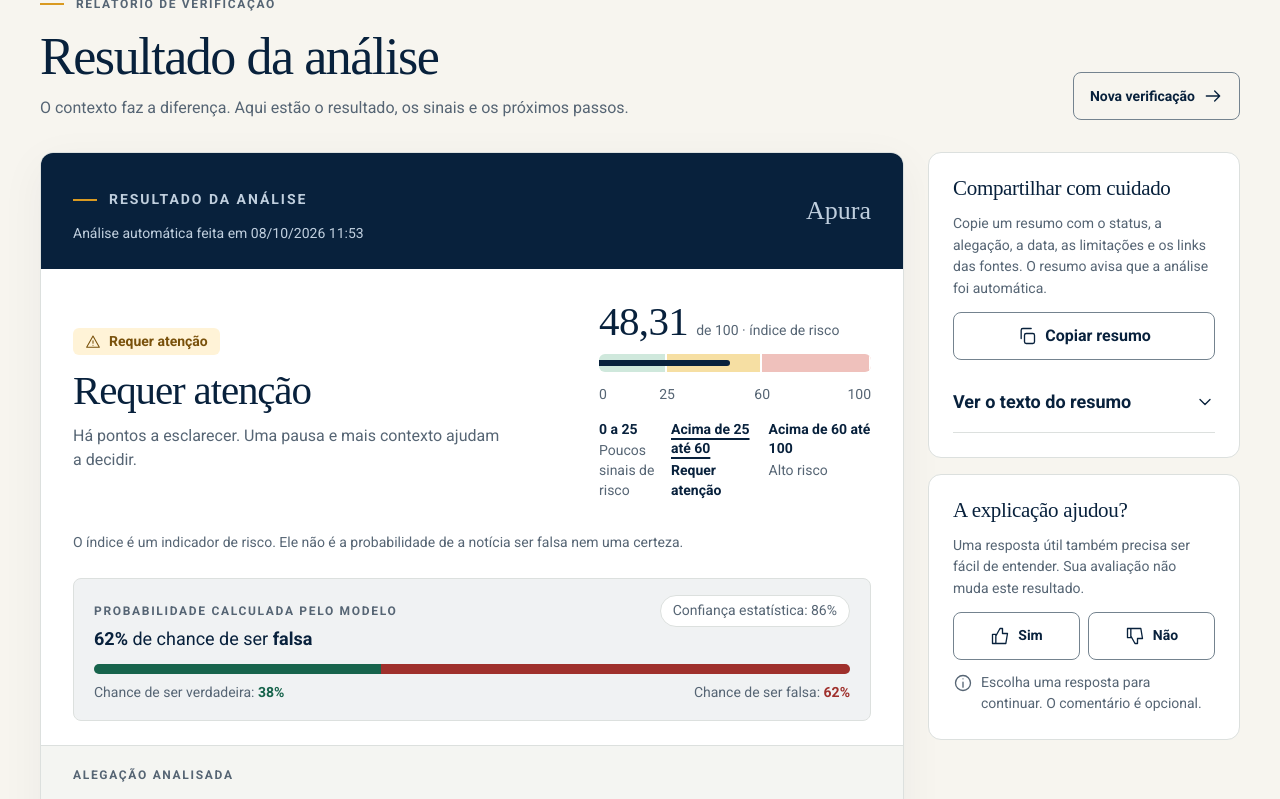
it: RF18: resumo copiável › o resumo traz status, alegação, data, limitações, aviso de análise automática e sem verificação humana
Click the heading "Ver o texto do resumo" at (1084,402), box 953,391 -> 1215,412
(page scrolled)
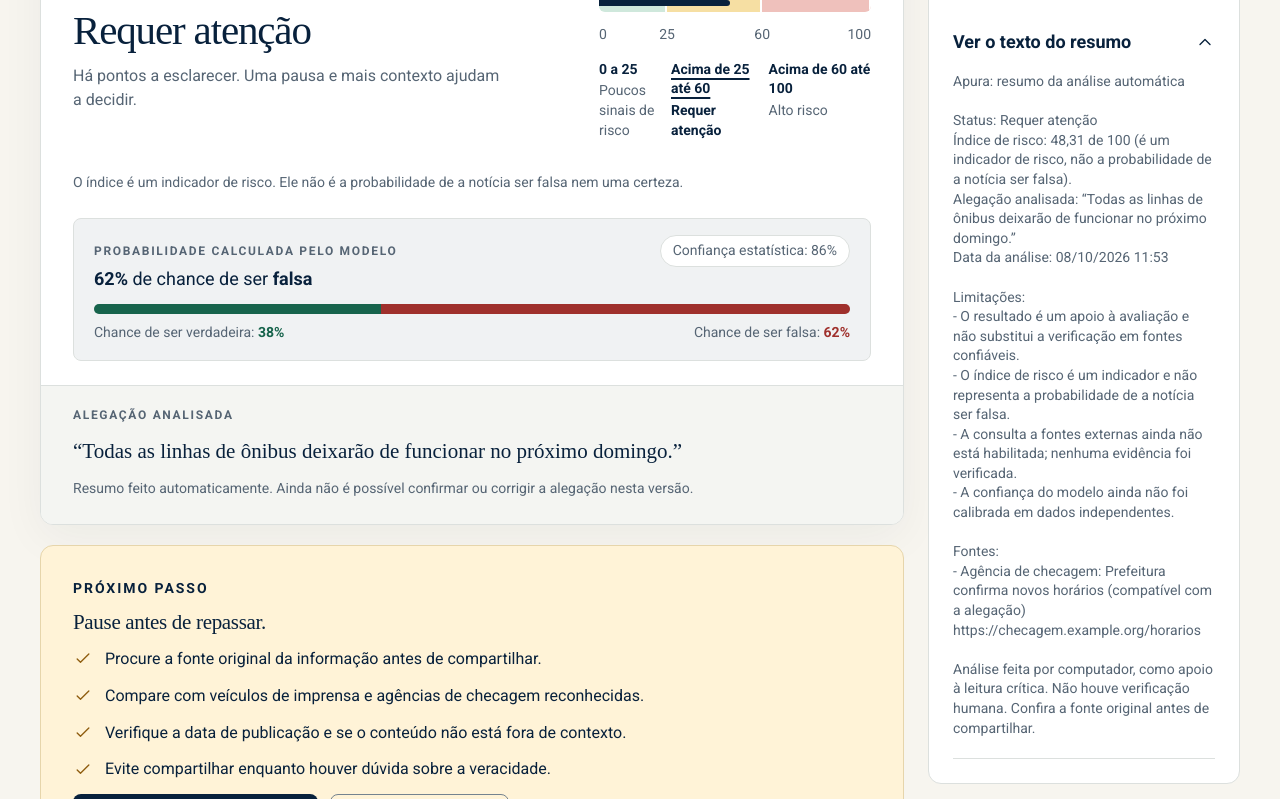
Result: the text with class "share-text" shows "Status: Requer atenção" at 953,73 -> 1216,736
Result: the text with class "share-text" shows "Índice de risco: 48,31 de 100 (é um indicador de risco, não a probabilidade de a notícia ser falsa)." at 953,73 -> 1216,736
Result: the text with class "share-text" shows "Alegação analisada: “Todas as linhas de ônibus deixarão de funcionar no próximo domingo.”" at 953,73 -> 1216,736
